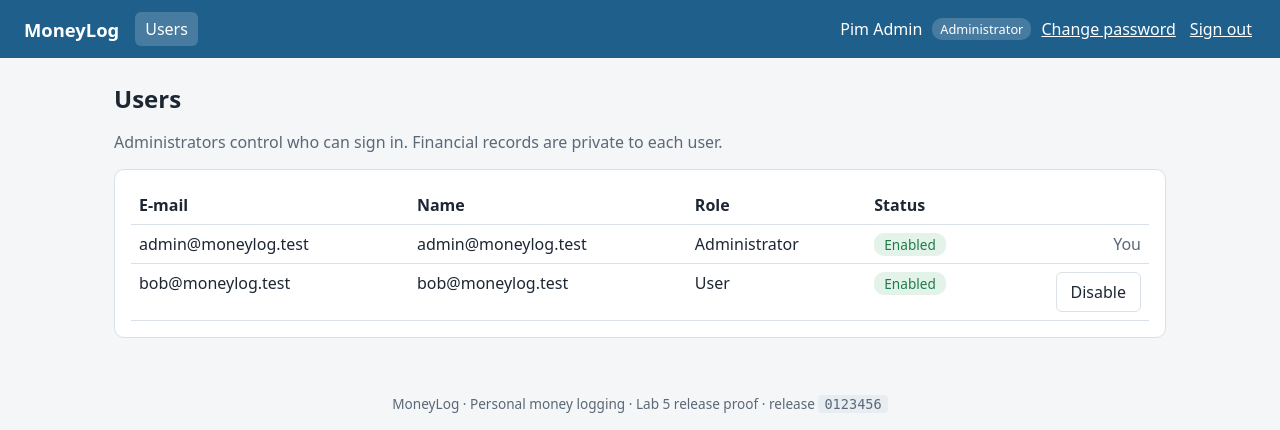
Test: TEST-49 users page (AC-42) › disables another user and shows the new status; no Disable on own row
The image size is (1280, 430).
expect the text with test id "status-bob@moneylog.test" reads "Enabled": met, box top-left (884, 274), bottom-right (936, 293)
Click the button with aria-label "Disable bob@moneylog.test": (1098, 292) top-left (1056, 272), bottom-right (1141, 312)
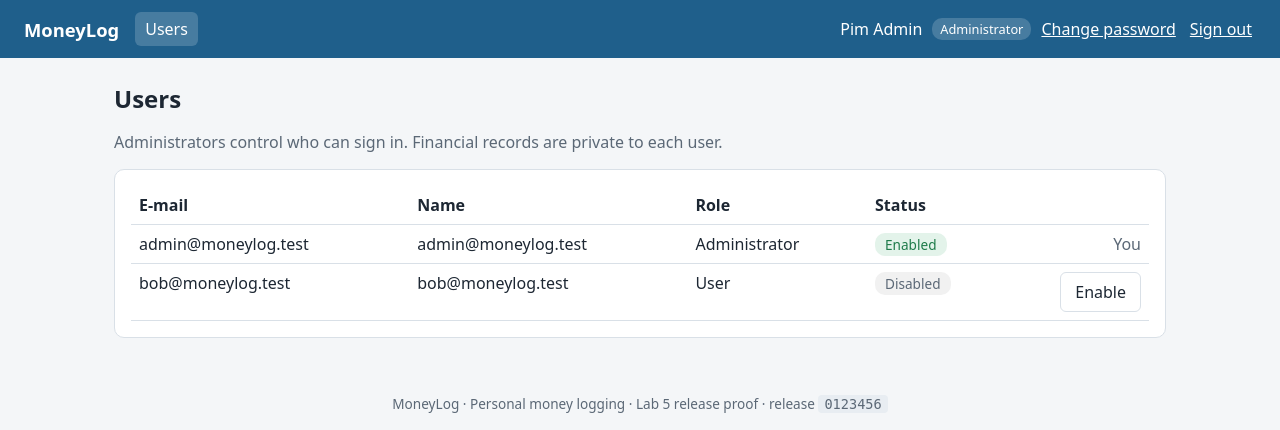
expect the text with test id "status-bob@moneylog.test" reads "Disabled": met, box top-left (885, 274), bottom-right (940, 293)
expect the button with aria-label "Enable bob@moneylog.test" is shown: met, box top-left (1060, 272), bottom-right (1141, 312)
